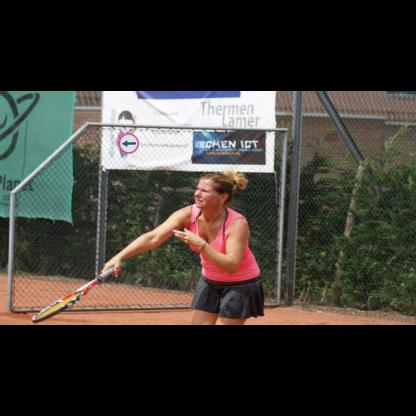R-24a: (118, 133, 139, 153)
